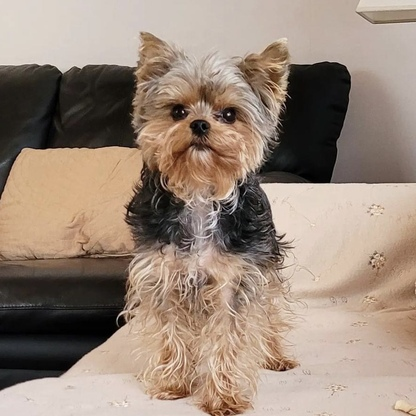yorkshire: (123, 29, 299, 415)
